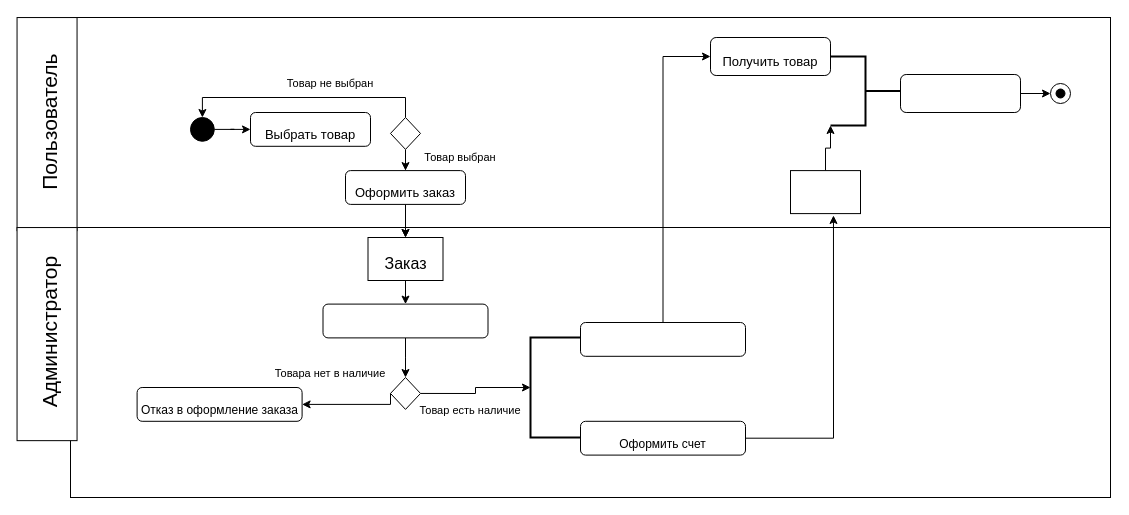
Image size: 1129x515. Some labels were removed from this diagram. The centre of each missing label's shape, as x and y in pixels:
"Оплатить счет" belongs at point 960,93.
"Организовать доставку" belongs at point 663,339.
"Проверить наличие товара" belongs at point 405,320.
"Счет" belongs at point 825,192.
